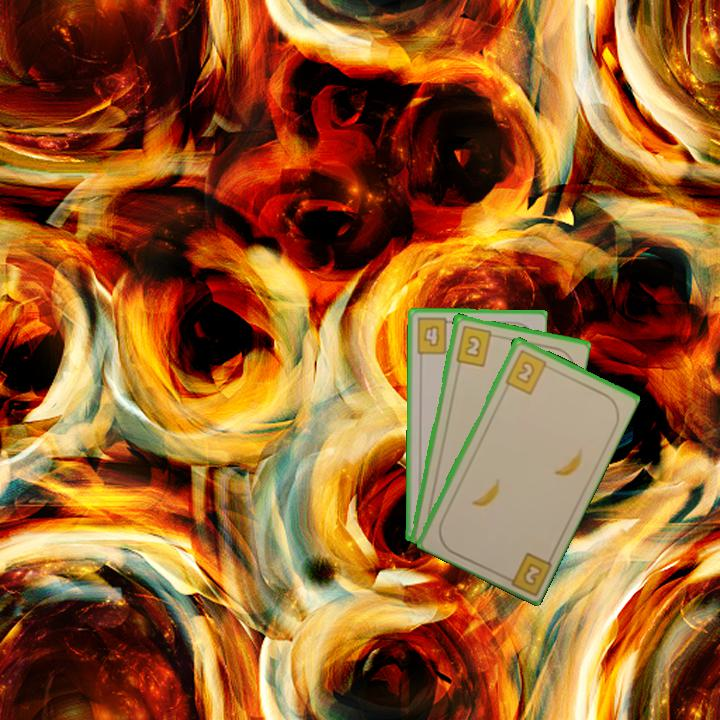2b: (501, 346, 554, 397), (498, 549, 554, 596), (452, 322, 500, 369)
4b: (413, 315, 456, 357)
